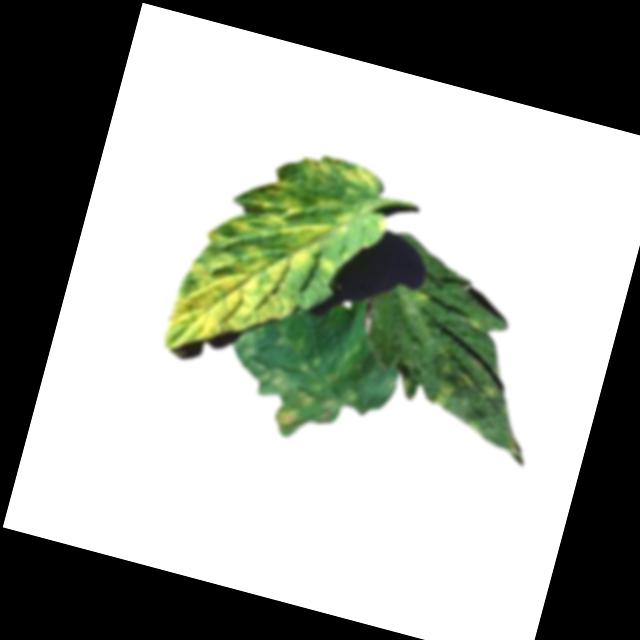Leaf_Mold: (158, 126, 399, 392), (245, 362, 346, 441), (467, 375, 507, 405), (428, 380, 458, 415)
